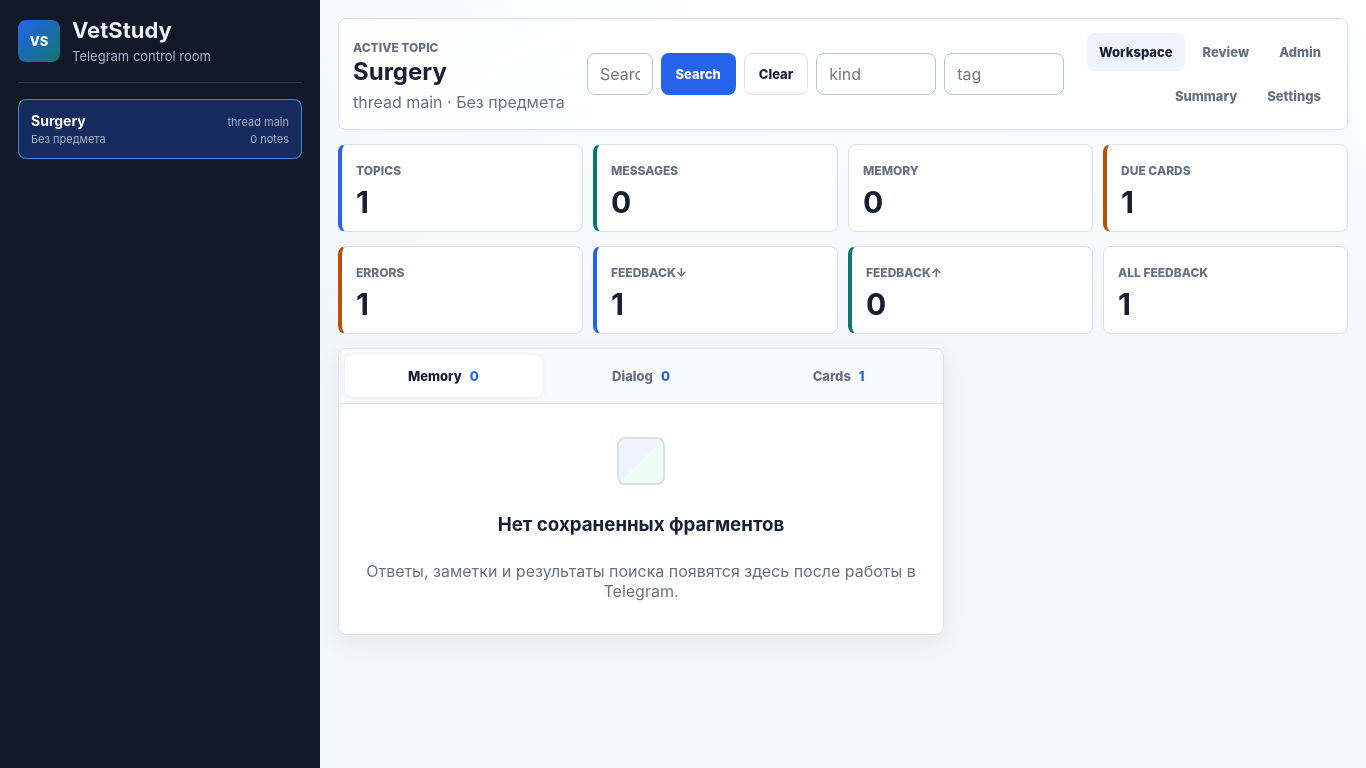
Test: App › renders review and admin screens
The width and height of the screenshot is (1366, 768).
Expected: the heading "VetStudy" is shown, [72,17,172,43]
Click the link "Review".
click(1226, 52)  # box [1202,44,1249,60]
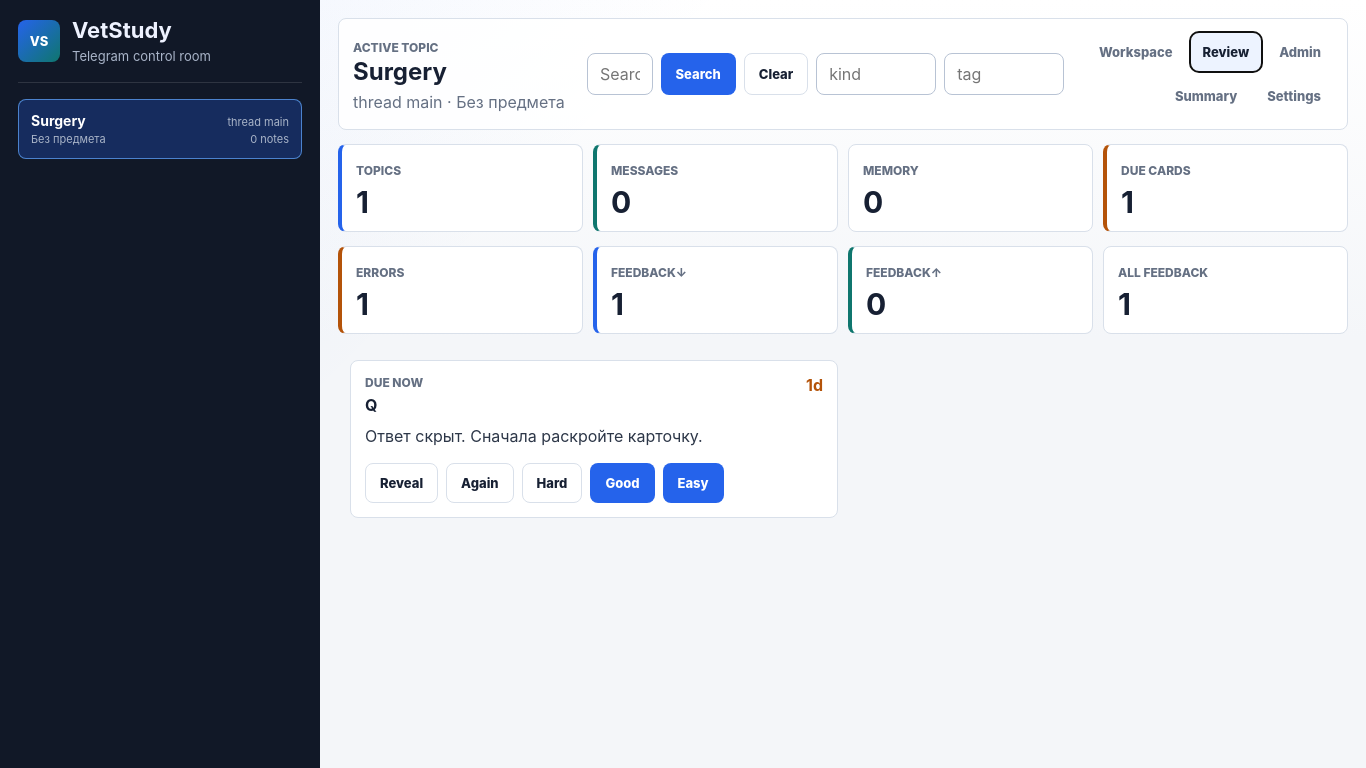
Result: the text "Ответ скрыт. Сначала раскройте карточку." is shown at [365,426,703,446]
Click the button "Reveal".
click(402, 483)  # box [365,463,438,503]
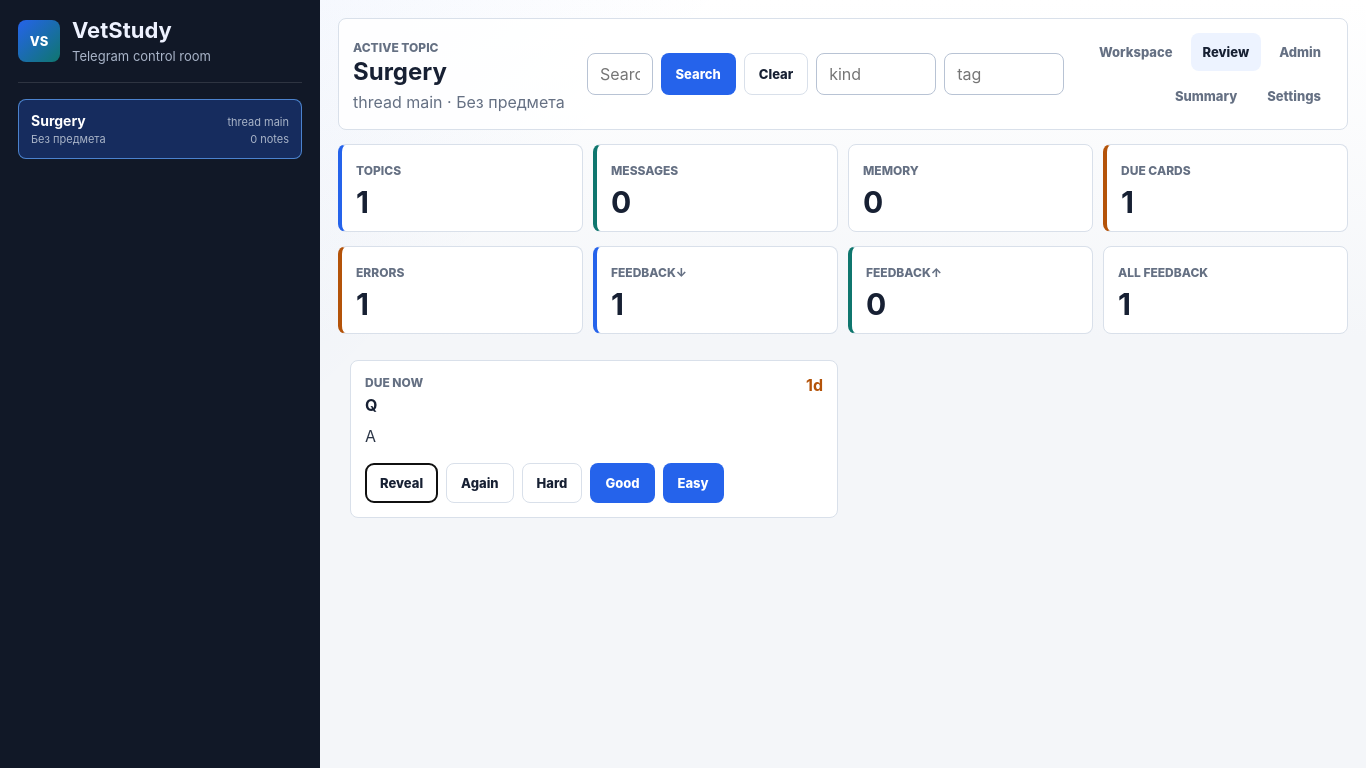
Expected: the text "A" is shown, [365,426,376,446]
Click the link "Admin".
click(1300, 52)  # box [1279,44,1321,60]
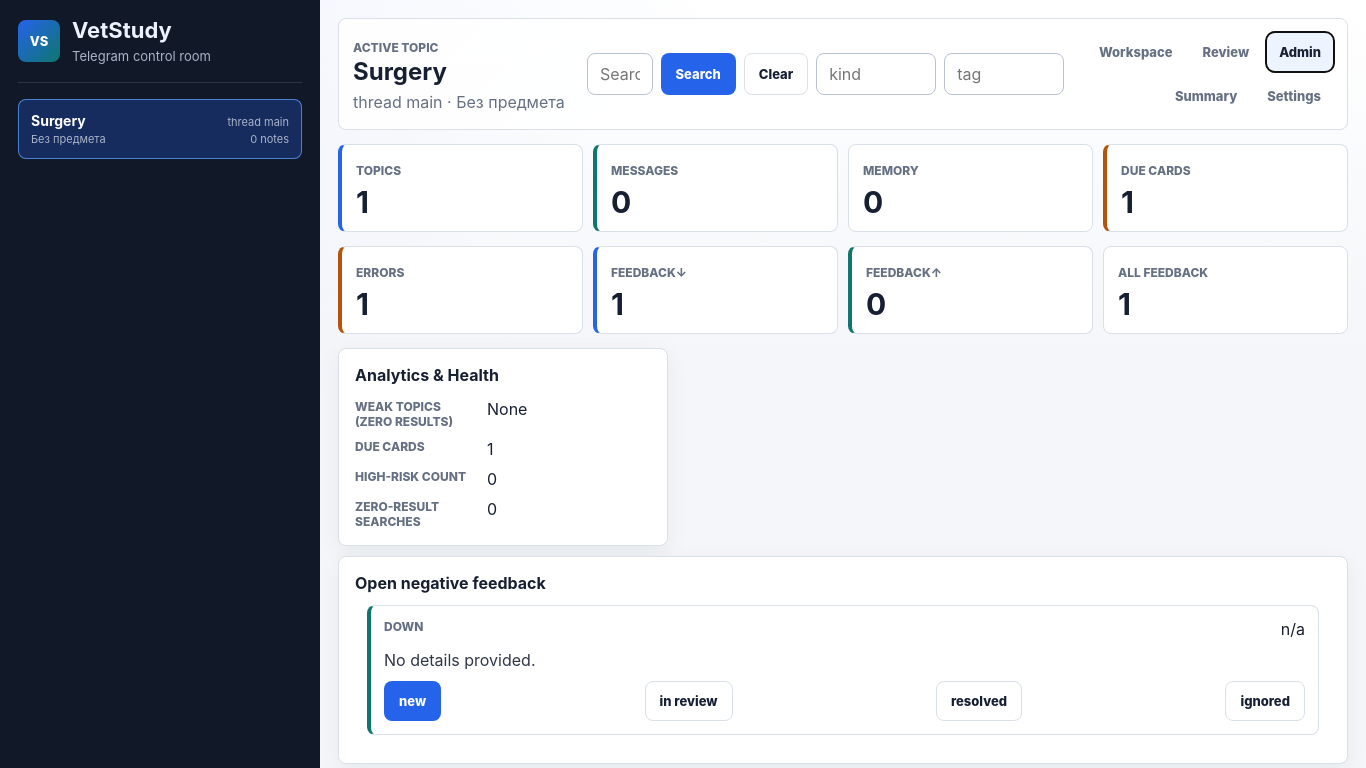
Result: the heading "Analytics & Health" is shown at [355,365,499,385]
Result: the heading "Open negative feedback" is shown at [355,573,546,593]
